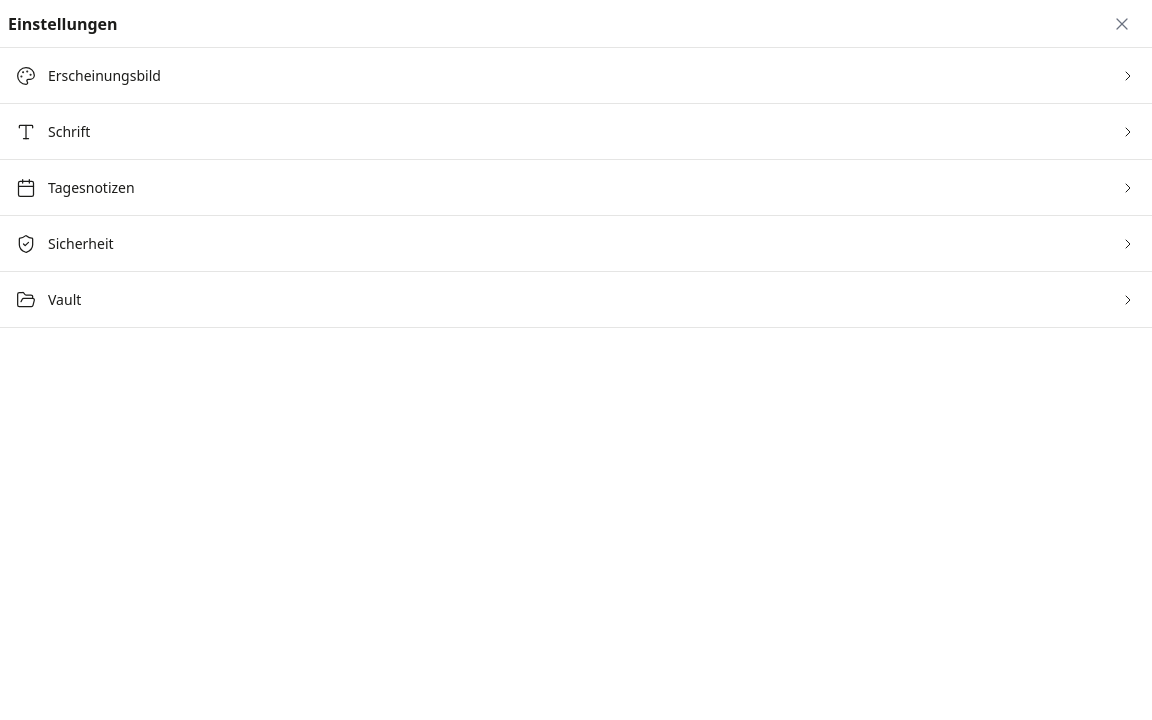
Test: MobileSettingsSheet (#394) › the Back button in detail view returns to the master view (does NOT close)
This screenshot has width=1152, height=720.
Step 1. Click the menu item "Erscheinungsbild" → click(104, 76), box x1=0 y1=48 x2=1151 y2=104
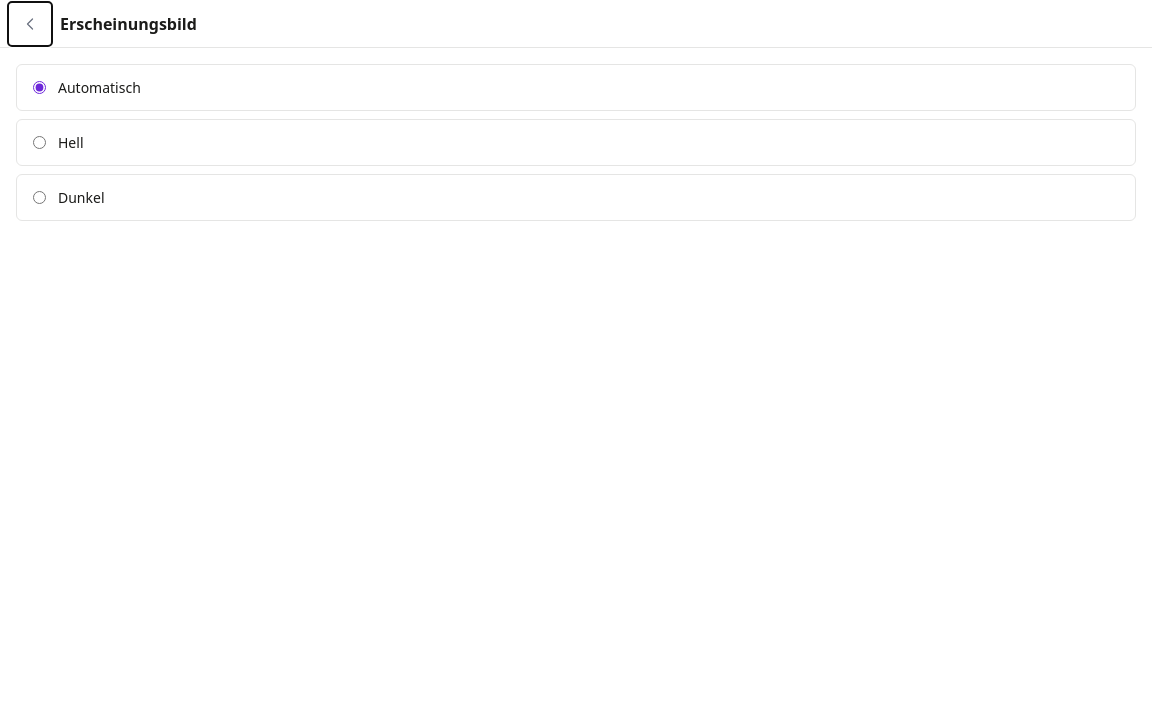
Step 2. Click the button named "Zurück" → click(30, 24), box x1=8 y1=2 x2=52 y2=46
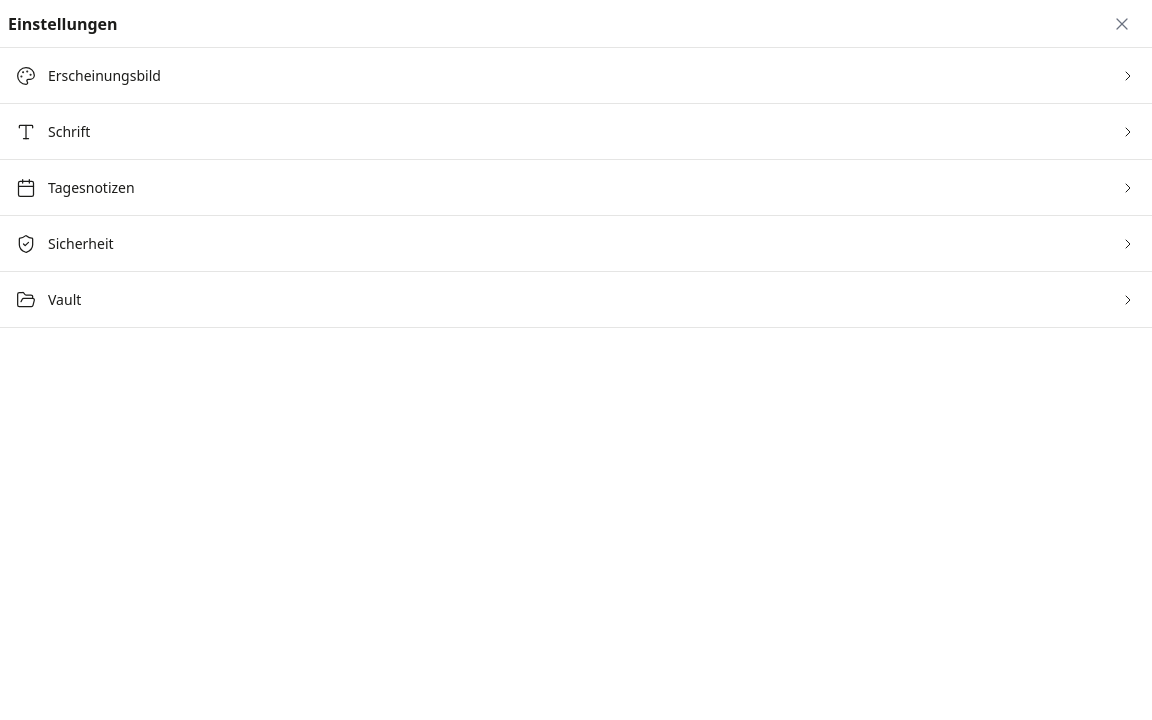
Expected: the menu is shown, x1=0 y1=48 x2=1151 y2=328
